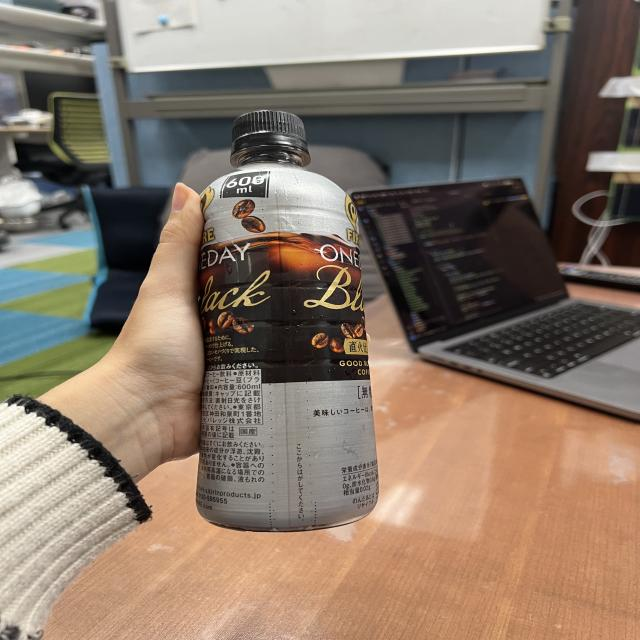coffee-black: (189, 103, 367, 534)
